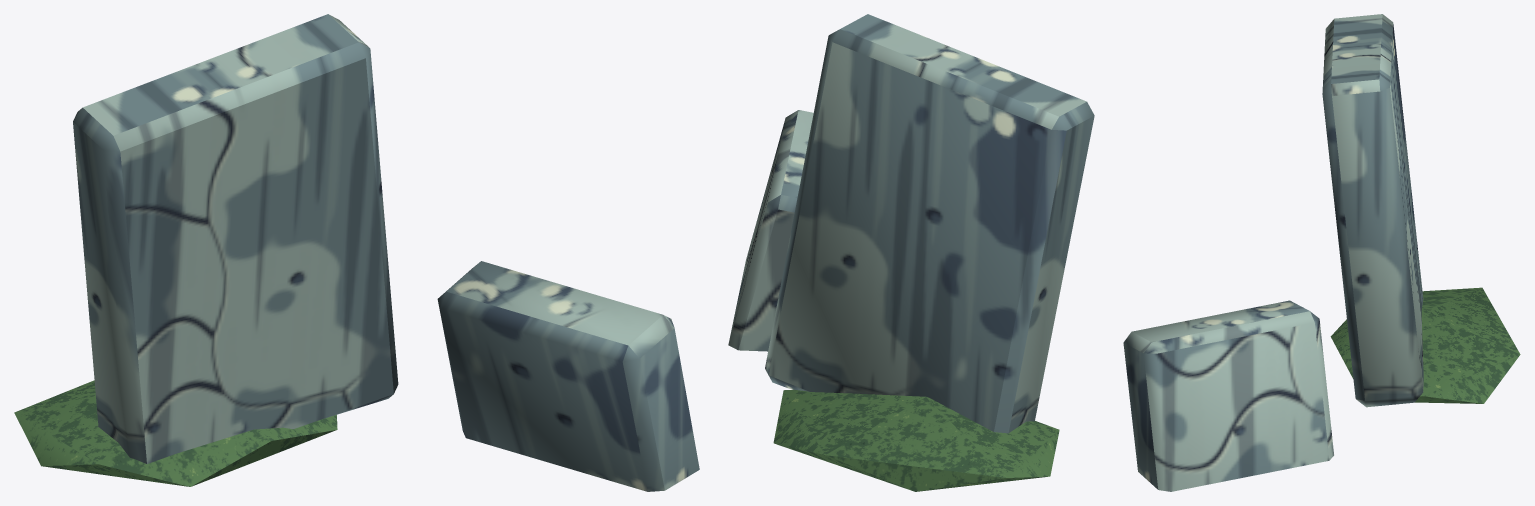
Rendered from tombstone_small_c.glb.
3 renders of one model, left to right at view 1: azimuth 30°, elevation 25°; view 2: azimuth 150°, elevation 25°; view 3: azimuth 270°, elevation 25°, orthographic. The views are drawn at different scales.
Visible parts, largest first — view 1: Prop; view 2: Prop; view 3: Prop.
Part boxes in pixels (box(x1,y1,x2,y2)): Prop: box(14, 14, 699, 491); Prop: box(728, 14, 1094, 491); Prop: box(1123, 14, 1520, 491).
Size of the model in its own units: 0.9271 by 0.7318 by 0.8181.
2 materials, 2 textured.
